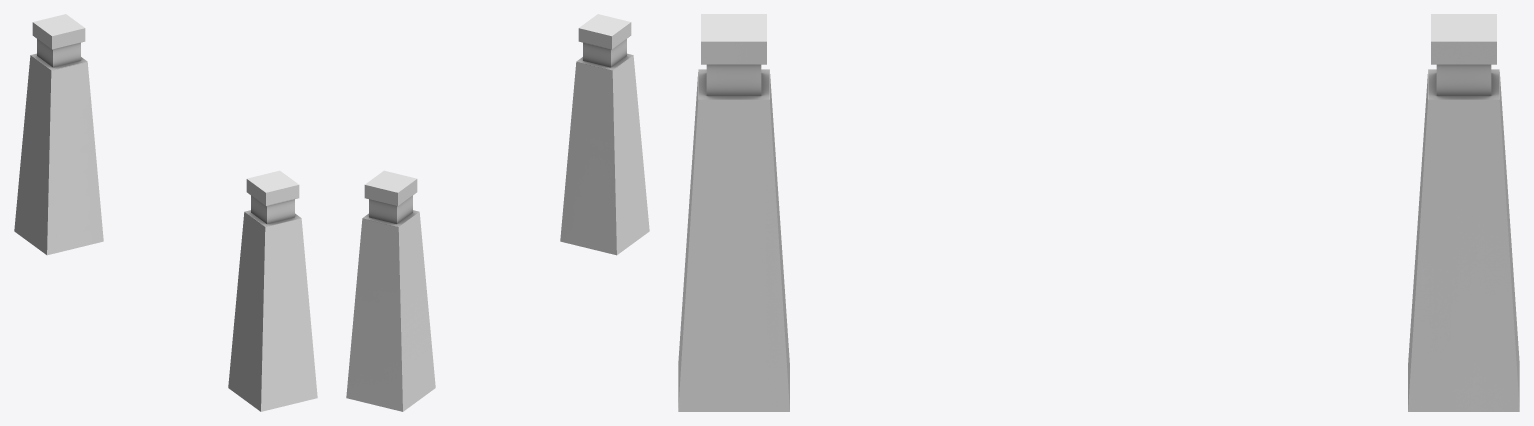
Rendered from street_el_5.glb.
3 renders of one model, left to right at view 1: azimuth 30°, elevation 25°; view 2: azimuth 150°, elevation 25°; view 3: azimuth 270°, elevation 25°, orthographic. The views are drawn at different scales.
Visible parts, largest first — view 1: street_el_5; view 2: street_el_5; view 3: street_el_5.
Boxes of the visible parts, <box> form: street_el_5: <box>14,14,317,411</box>; street_el_5: <box>346,14,649,411</box>; street_el_5: <box>678,14,1519,411</box>.
Bounding box in the file's own units: 0.2 × 0.7118 × 1.51.
1 material, 1 textured.
